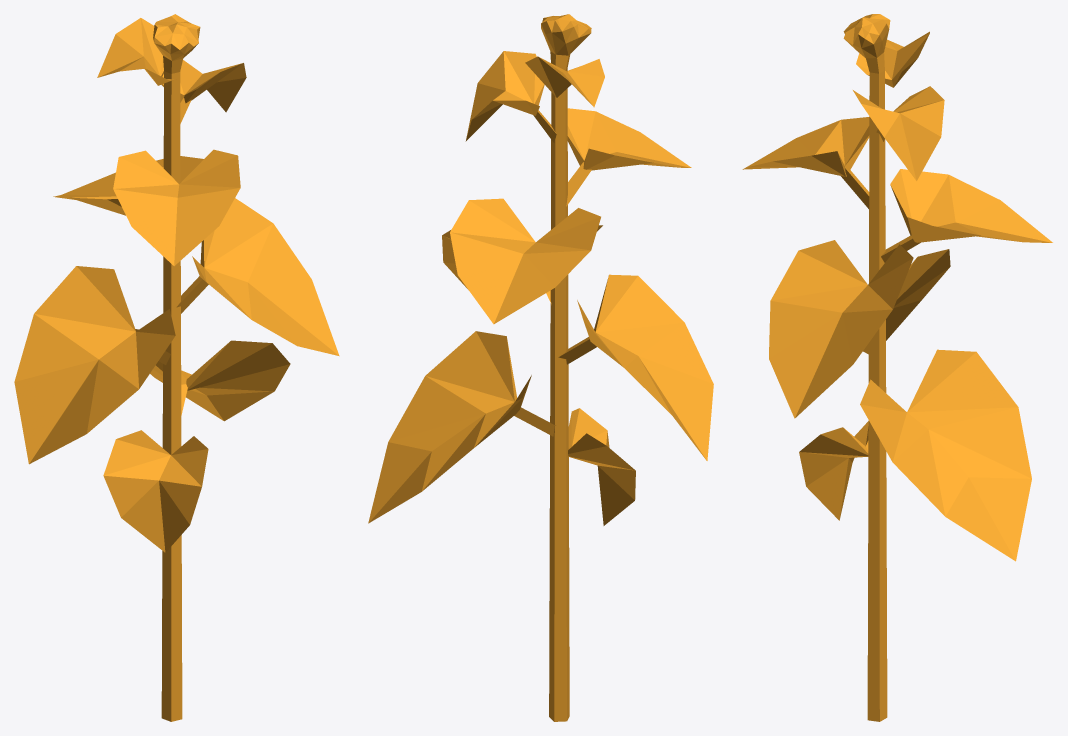
The model's file is SM_Sunflower_Plant_Young.fbx.
3 views of the same model, side by side, from view 1: azimuth 30°, elevation 25°; view 2: azimuth 150°, elevation 25°; view 3: azimuth 270°, elevation 25° (orthographic).
Parts seen in each view (by area): view 1: sunflower-plant-young; view 2: sunflower-plant-young; view 3: sunflower-plant-young.
Part boxes in pixels (box(x1,y1,x2,y2)): sunflower-plant-young: box(14, 14, 339, 721); sunflower-plant-young: box(368, 14, 713, 721); sunflower-plant-young: box(742, 14, 1052, 721).
Size of the model in its own units: 0.5375 by 1.27 by 0.513.
